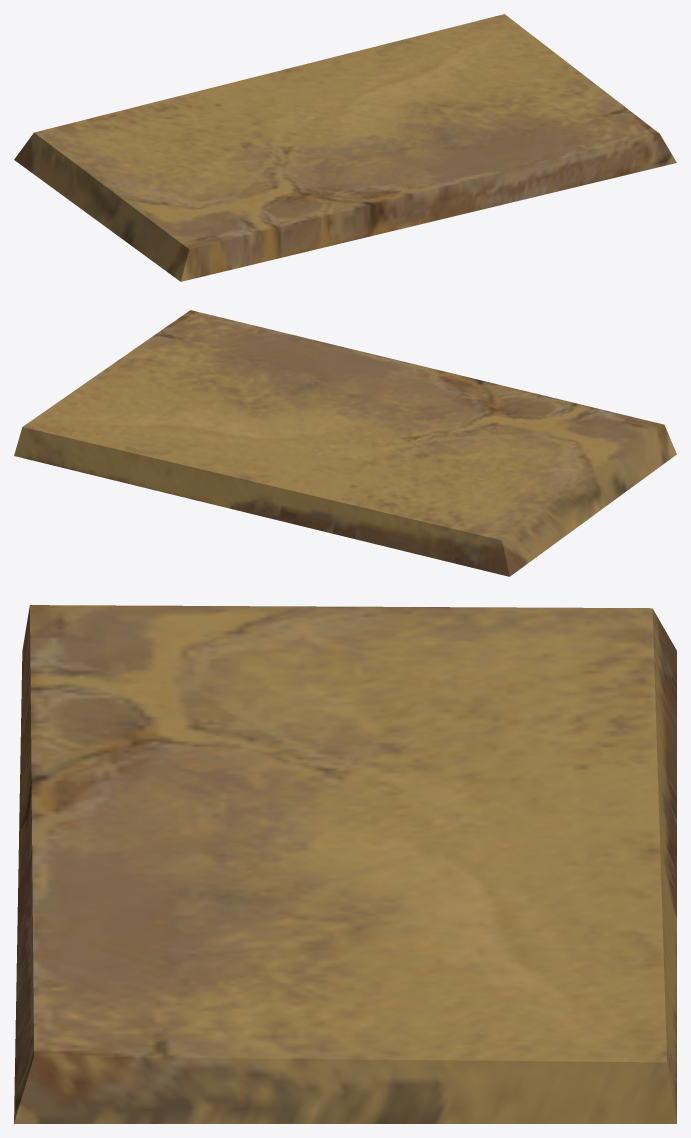
File: common_shamo_zhuankuai01.FBX
3 views of the same model, one above another, from view 1: azimuth 30°, elevation 25°; view 2: azimuth 150°, elevation 25°; view 3: azimuth 270°, elevation 25° (orthographic). The views are drawn at different scales.
Parts seen in each view (by area): view 1: common_shamo_zhuankuai01; view 2: common_shamo_zhuankuai01; view 3: common_shamo_zhuankuai01.
Boxes of the visible parts, x1,y1,x2,y2 form: common_shamo_zhuankuai01: [14, 14, 676, 281]; common_shamo_zhuankuai01: [14, 310, 676, 576]; common_shamo_zhuankuai01: [14, 605, 676, 1123].
Bounding box in the file's own units: 3.8 × 0.2092 × 2.25.
